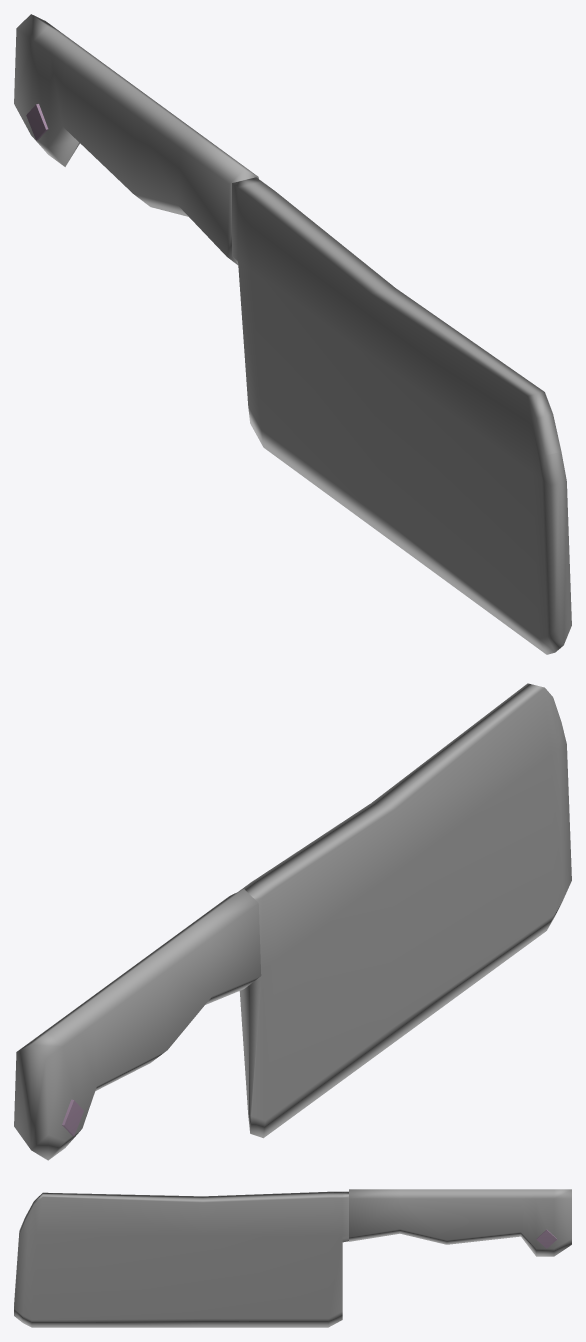
The model's file is PROP_Cleaver.fbx.
The picture shows the model from 3 angles, top to bottom: view 1: azimuth 30°, elevation 25°; view 2: azimuth 150°, elevation 25°; view 3: azimuth 270°, elevation 25°; orthographic projection. The views are drawn at different scales.
Parts seen in each view (by area): view 1: PROP_Cleaver; view 2: PROP_Cleaver; view 3: PROP_Cleaver.
Part boxes in pixels (x1=…): PROP_Cleaver: x1=14, y1=14, x2=571, y2=654; PROP_Cleaver: x1=14, y1=683, x2=571, y2=1160; PROP_Cleaver: x1=14, y1=1189, x2=571, y2=1327.
Bounding box in the file's own units: 1.56 × 10.32 × 37.81.
2 materials, 1 textured.
